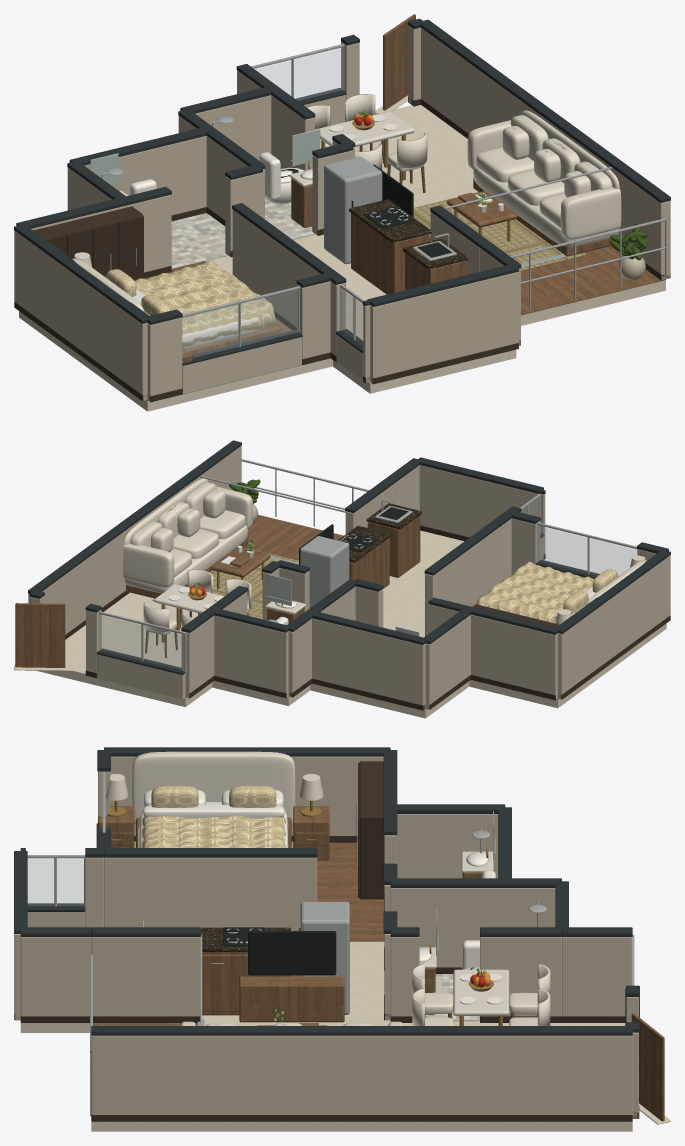
The model's file is Codename-Elements_Tower-1_Flat-06_1BHK.glb.
3 renders of one model, top to bottom at view 1: azimuth 30°, elevation 25°; view 2: azimuth 150°, elevation 25°; view 3: azimuth 270°, elevation 25°, orthographic. The views are drawn at different scales.
Visible parts, largest first — view 1: Apartment foundation, Ivory masonry.010, Ivory masonry.015, Ivory masonry.008, Soft jacquard duvet with folds.003, Cutaway window glazing, Ivory masonry.017, Ivory masonry.002, Brushed refrigerator, Window sill, Charcoal wall cut.008, Balcony · timber deck.001 (+64 smaller); view 2: Apartment foundation, Ivory masonry.002, Ivory masonry.015, Ivory masonry.010, Ivory masonry, Ivory masonry.008, Ivory masonry.004, Ivory masonry.017, Soft jacquard duvet with folds.003, Open walnut door leaf, Cutaway window glazing, Cutaway window glazing.001 (+52 smaller); view 3: Ivory masonry.008, Ivory masonry.017, Apartment foundation, Ivory masonry.024, Ivory masonry.020, Padded headboard.003, Ivory masonry.009, Ivory masonry.001, Charcoal wall cut.008, Ivory masonry.005, Walnut television console, Soft jacquard duvet with folds.003 (+41 smaller).
Part boxes in pixels (x1,y1,x2,y2): Apartment foundation: [19, 105, 665, 411]; Ivory masonry.010: [370, 272, 518, 383]; Ivory masonry.015: [14, 231, 147, 401]; Ivory masonry.008: [421, 28, 670, 279]; Soft jacquard duvet with folds.003: [134, 260, 275, 346]; Cutaway window glazing: [182, 290, 298, 357]; Ivory masonry.017: [232, 210, 320, 326]; Ivory masonry.002: [84, 136, 206, 215]; Brushed refrigerator: [324, 156, 382, 264]; Window sill: [182, 337, 301, 394]; Charcoal wall cut.008: [421, 19, 670, 202]; Balcony · timber deck.001: [521, 246, 665, 315]; Apartment foundation: [36, 530, 666, 718]; Ivory masonry.002: [312, 618, 425, 709]; Ivory masonry.015: [558, 555, 670, 699]; Ivory masonry.010: [419, 465, 539, 537]; Ivory masonry: [471, 614, 557, 699]; Ivory masonry.008: [28, 446, 241, 634]; Ivory masonry.004: [214, 615, 288, 697]; Ivory masonry.017: [425, 518, 511, 635]; Soft jacquard duvet with folds.003: [476, 561, 594, 623]; Open walnut door leaf: [15, 603, 65, 667]; Cutaway window glazing: [539, 526, 636, 575]; Cutaway window glazing.001: [100, 615, 183, 670]; Ivory masonry.008: [91, 1035, 632, 1114]; Ivory masonry.017: [104, 857, 317, 930]; Apartment foundation: [20, 941, 632, 1131]; Ivory masonry.024: [91, 936, 200, 1016]; Ivory masonry.020: [390, 888, 555, 967]; Padded headboard.003: [132, 751, 295, 825]; Ivory masonry.009: [20, 936, 91, 1016]; Ivory masonry.001: [396, 814, 498, 878]; Charcoal wall cut.008: [91, 1026, 632, 1035]; Ivory masonry.005: [562, 937, 632, 1016]; Walnut television console: [239, 975, 344, 1022]; Soft jacquard duvet with folds.003: [138, 815, 289, 847].
Size of the model in its own units: 7.86 by 1.37 by 7.6.
25 materials, 6 textured.
